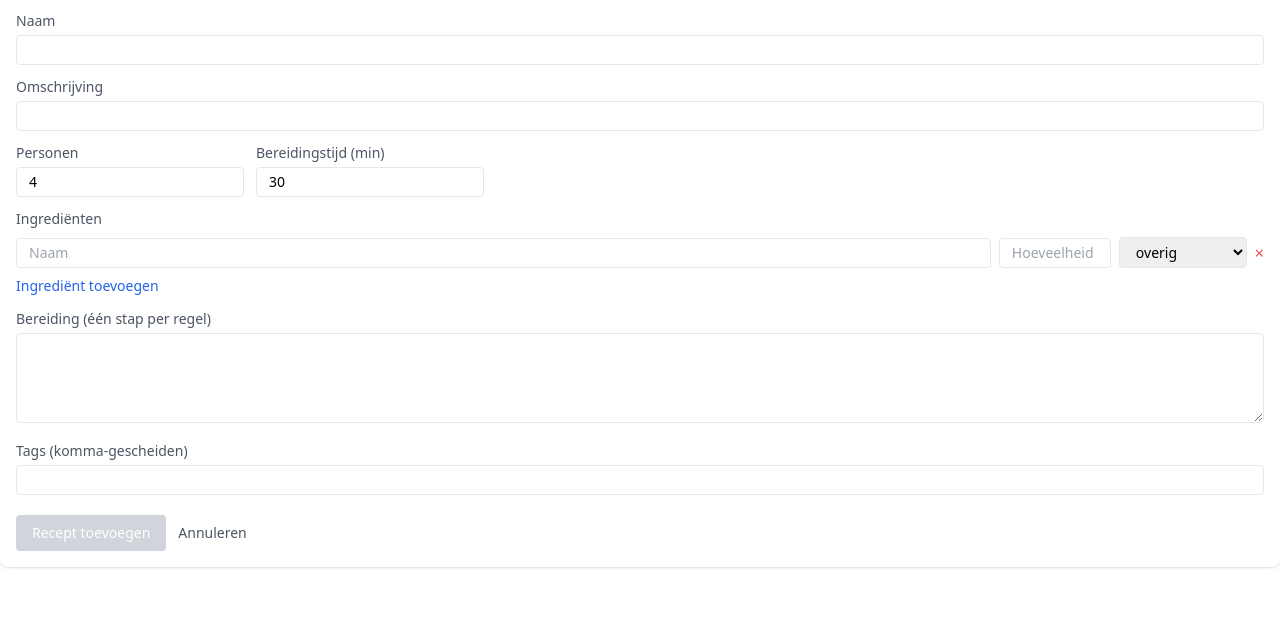
Test case: RecipeForm › ingredients › adds an ingredient row
Click the button with class "add-ingredient". click: (87,286)
box: x1=16 y1=276 x2=159 y2=296
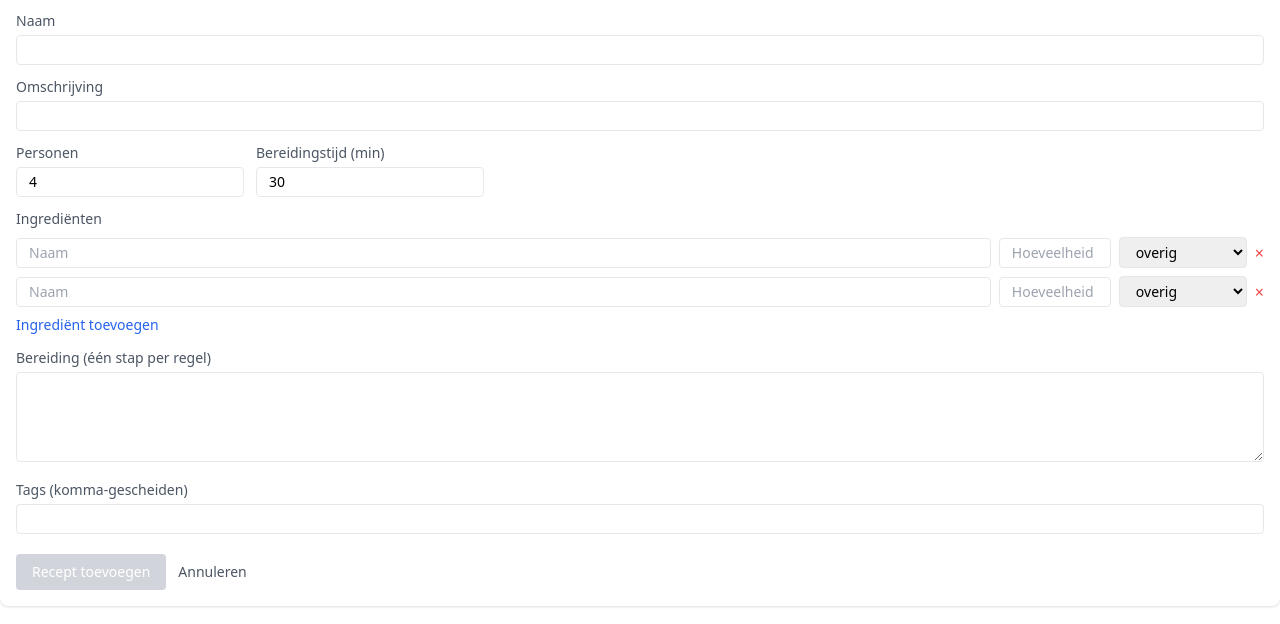
Result: the number of elements with class "ingredient-row" is 2 at x1=16 y1=237 x2=1264 y2=268; x1=16 y1=276 x2=1264 y2=307
